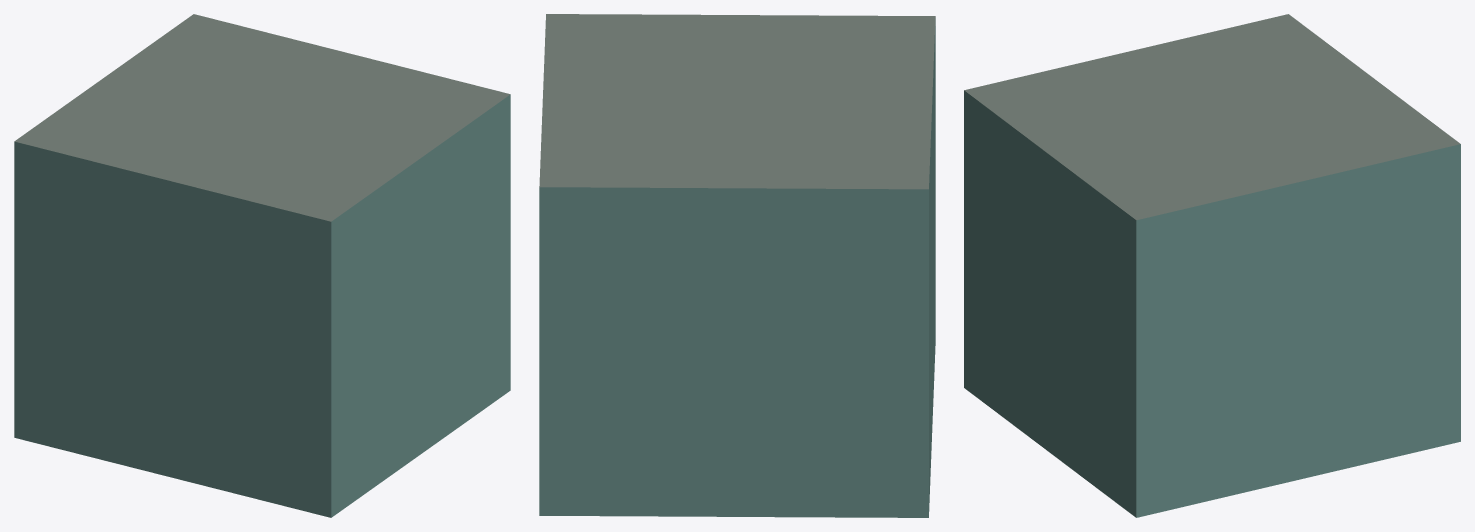
The model's file is nyc-1087882-0.glb.
The picture shows the model from 3 angles, left to right: view 1: azimuth 30°, elevation 25°; view 2: azimuth 150°, elevation 25°; view 3: azimuth 270°, elevation 25°; orthographic projection. The views are drawn at different scales.
Parts seen in each view (by area): view 1: nyc-1087882-0; view 2: nyc-1087882-0; view 3: nyc-1087882-0.
Boxes of the visible parts, x1,y1,x2,y2 form: nyc-1087882-0: [14, 14, 510, 517]; nyc-1087882-0: [539, 14, 935, 517]; nyc-1087882-0: [964, 14, 1460, 517].
Size of the model in its own units: 41.24 by 27.74 by 41.97.
